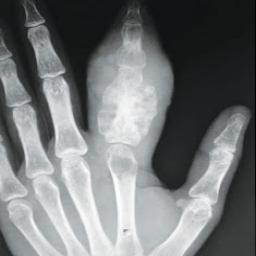cancer: (99, 52, 155, 146)
